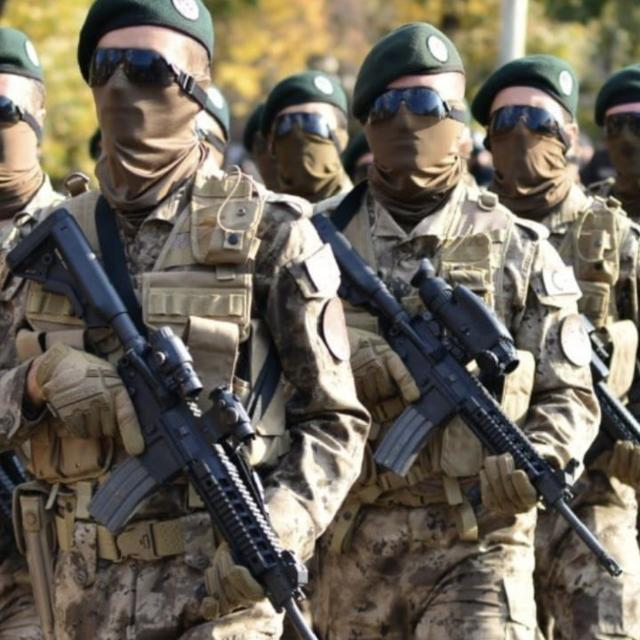poh_personel: (0, 0, 372, 640), (320, 20, 601, 640), (471, 54, 639, 640)
